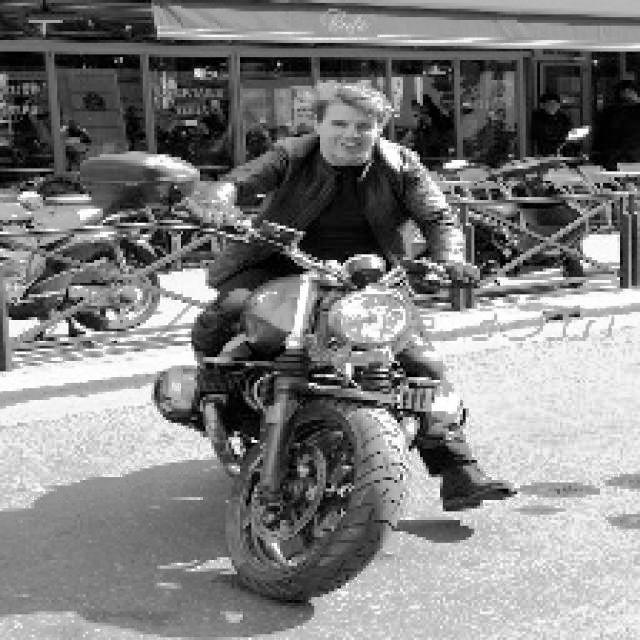Bike: (154, 238, 476, 602), (2, 200, 160, 338), (460, 154, 592, 288)
